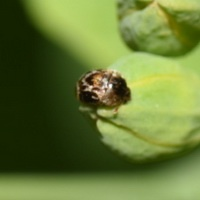insect: (76, 69, 130, 118)
